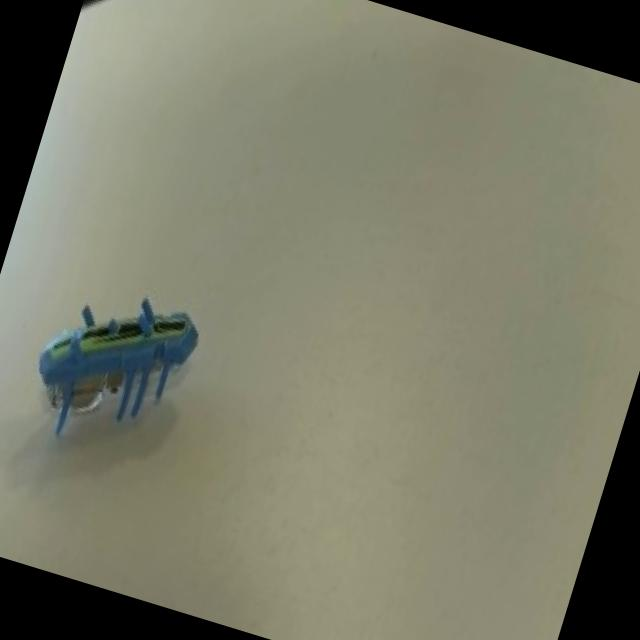3_NanoBug_Celeste: (14, 240, 227, 487)
